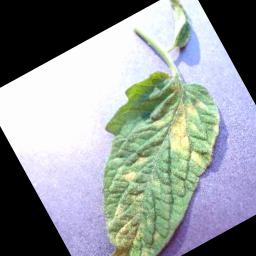Leaf_Mold: (63, 182, 174, 256), (151, 90, 232, 176), (118, 167, 139, 187), (132, 151, 149, 168)
